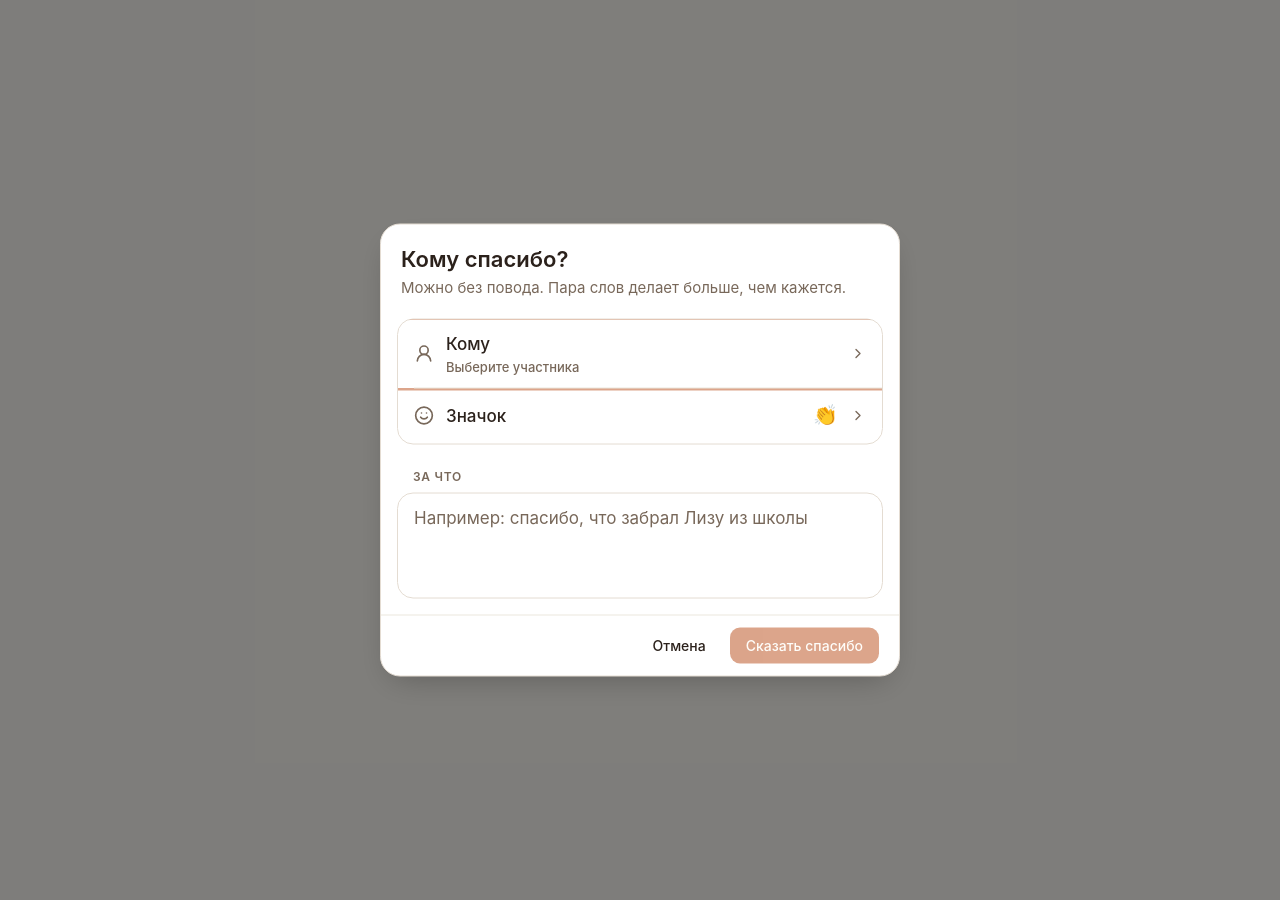
«Спасибо» › keeps «Сказать спасибо» shut until an offered person is picked
Expected: the button "Сказать спасибо" is disabled, [730, 628, 879, 664]
Click the button "Кому Выберите участника".
click(468, 344)  # box [398, 320, 882, 388]
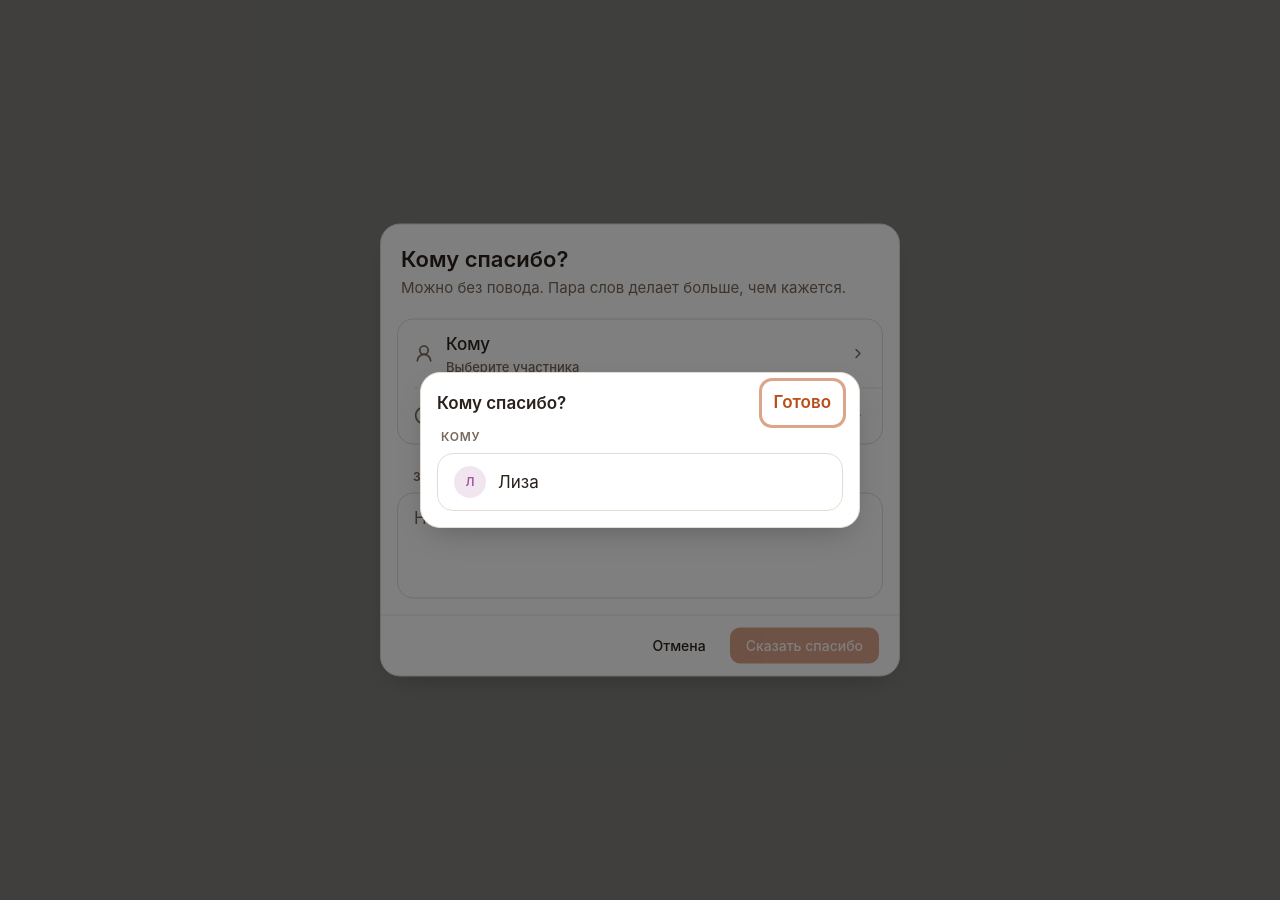
Click the radio button labelled "Лиза".
click(470, 482)  # box [438, 454, 842, 510]
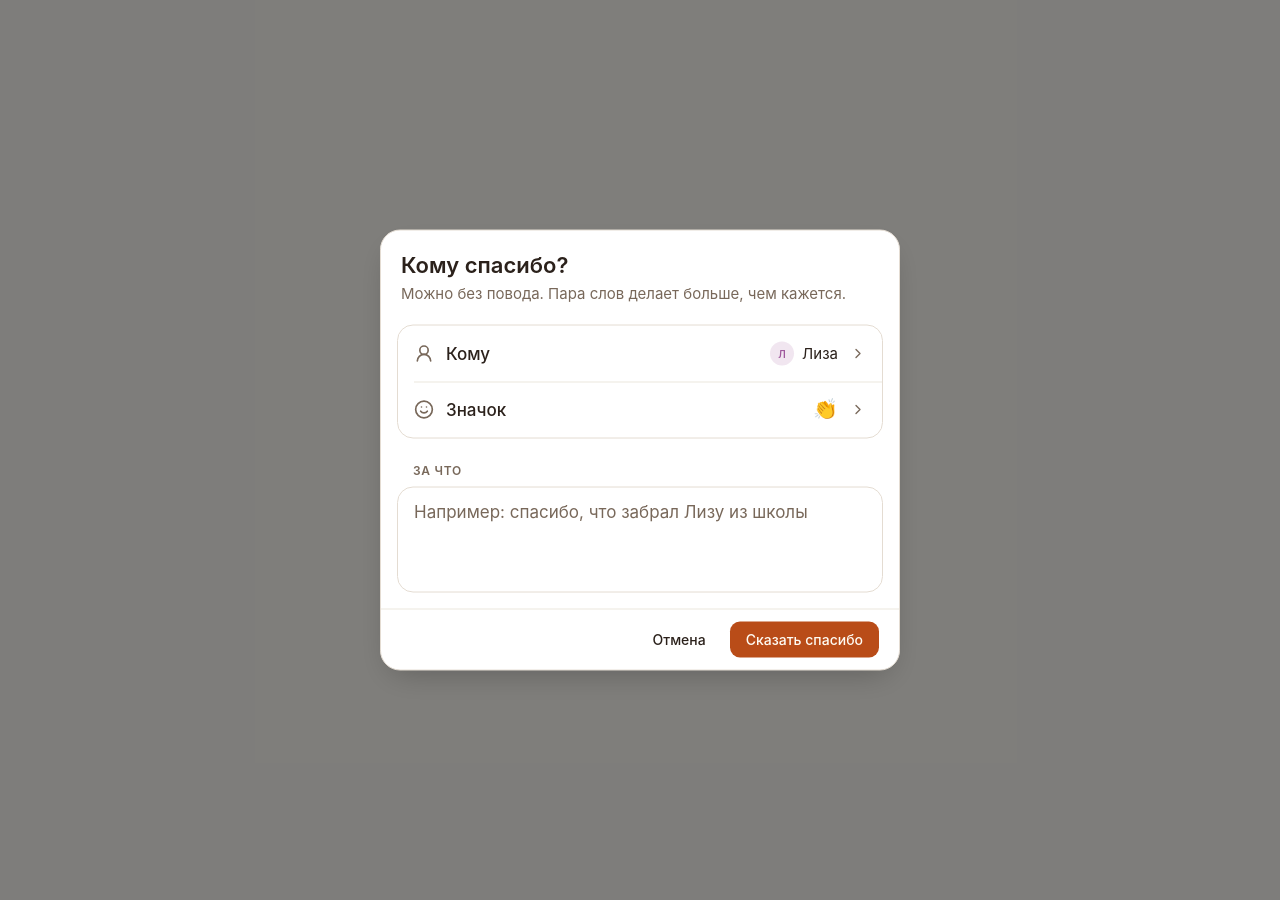
Result: the button "Сказать спасибо" is enabled at [730, 622, 879, 658]
